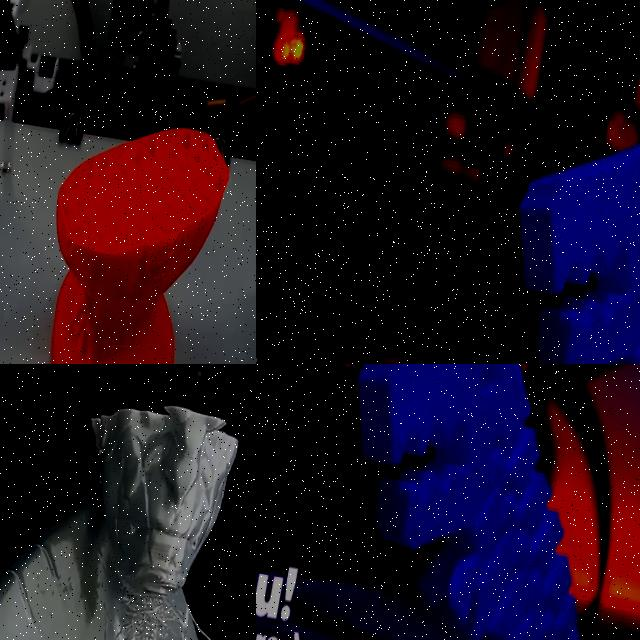spaghetti: (22, 566, 256, 640)
